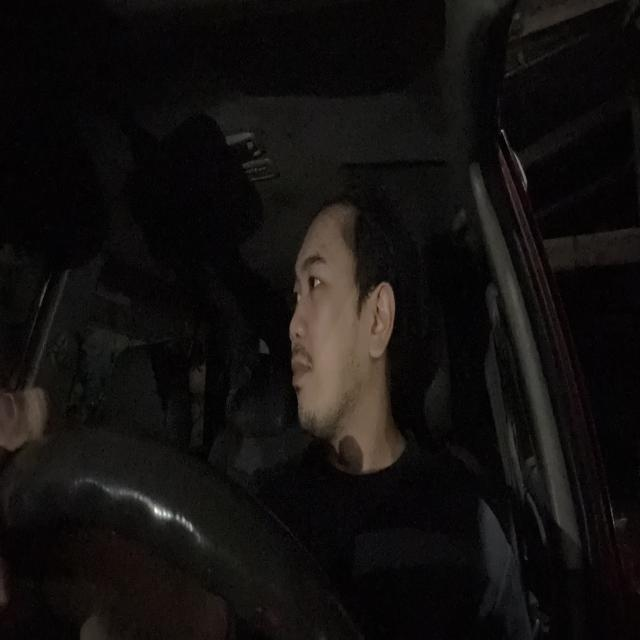open: (302, 251, 333, 303)
